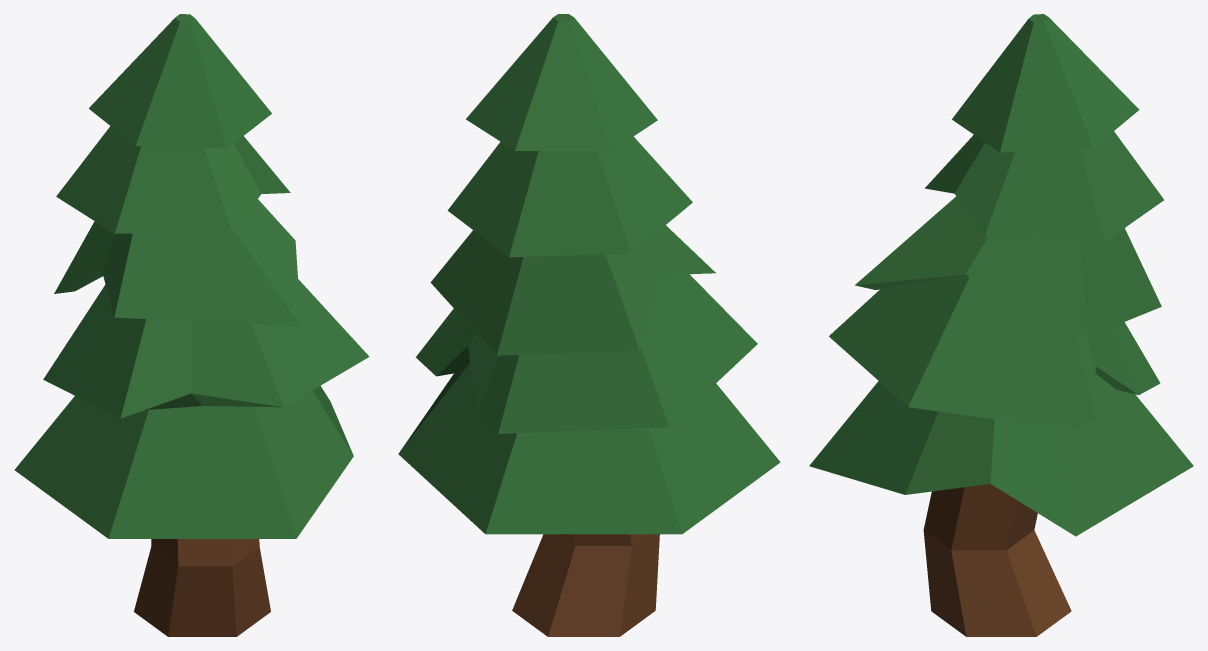
The model's file is uploads_files_3070616_tree+2.fbx.
3 renders of one model, left to right at view 1: azimuth 30°, elevation 25°; view 2: azimuth 150°, elevation 25°; view 3: azimuth 270°, elevation 25°, orthographic. The views are drawn at different scales.
Parts seen in each view (by area): view 1: Cylinder; view 2: Cylinder; view 3: Cylinder.
Boxes of the visible parts, x1=… form: Cylinder: x1=14, y1=14, x2=369, y2=636; Cylinder: x1=398, y1=14, x2=780, y2=636; Cylinder: x1=809, y1=14, x2=1193, y2=636.
Bounding box in the file's own units: 103 × 202 × 118.
